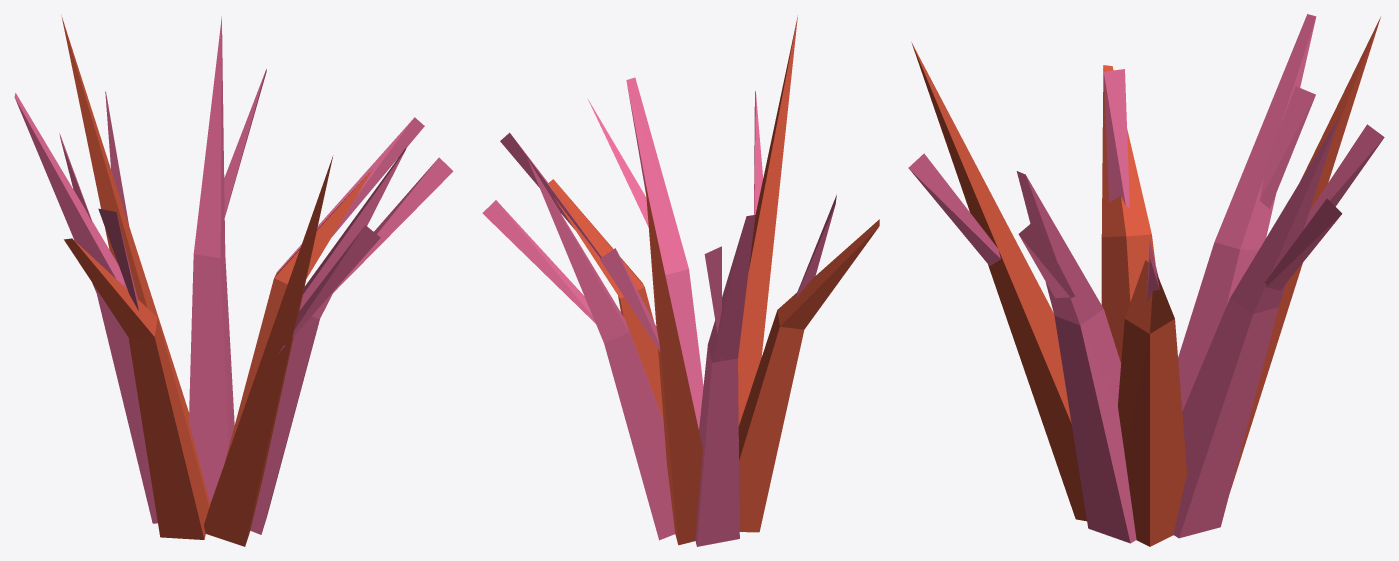
Rendered from aq_coral_branch.fbx.
The picture shows the model from 3 angles, left to right: view 1: azimuth 30°, elevation 25°; view 2: azimuth 150°, elevation 25°; view 3: azimuth 270°, elevation 25°; orthographic projection. The views are drawn at different scales.
Parts seen in each view (by area): view 1: aq_coral_branch; view 2: aq_coral_branch; view 3: aq_coral_branch.
Part boxes in pixels (bbox=[...]): aq_coral_branch: bbox=[14, 15, 453, 546]; aq_coral_branch: bbox=[482, 15, 879, 546]; aq_coral_branch: bbox=[908, 14, 1384, 546].
Bounding box in the file's own units: 0.8 × 0.9 × 0.8.
